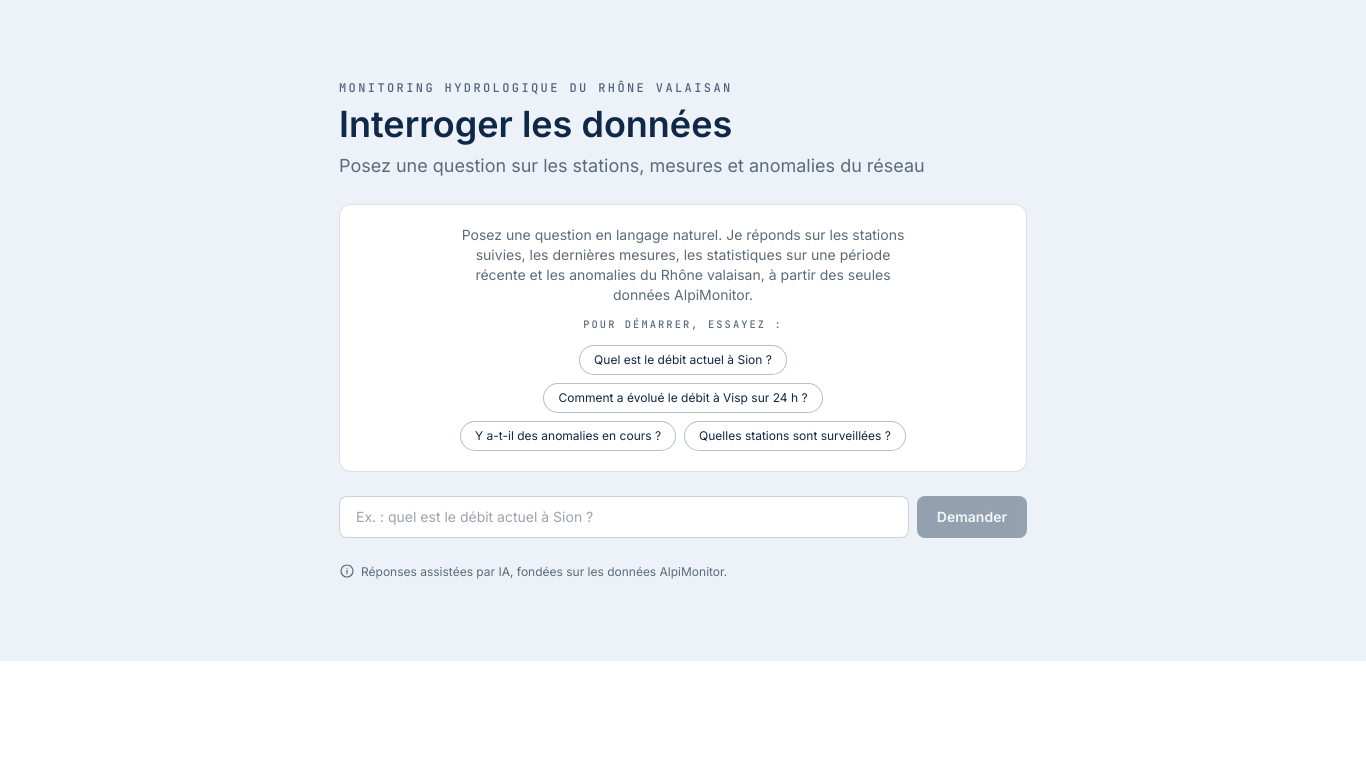
Test: OChatPanel › renders the question and answer bubbles after a successful ask
Step 1. Type "Quel est le débit à Sion ?" into the field with class "o-chat-panel__input" → (624, 517), box [339,496,909,538]
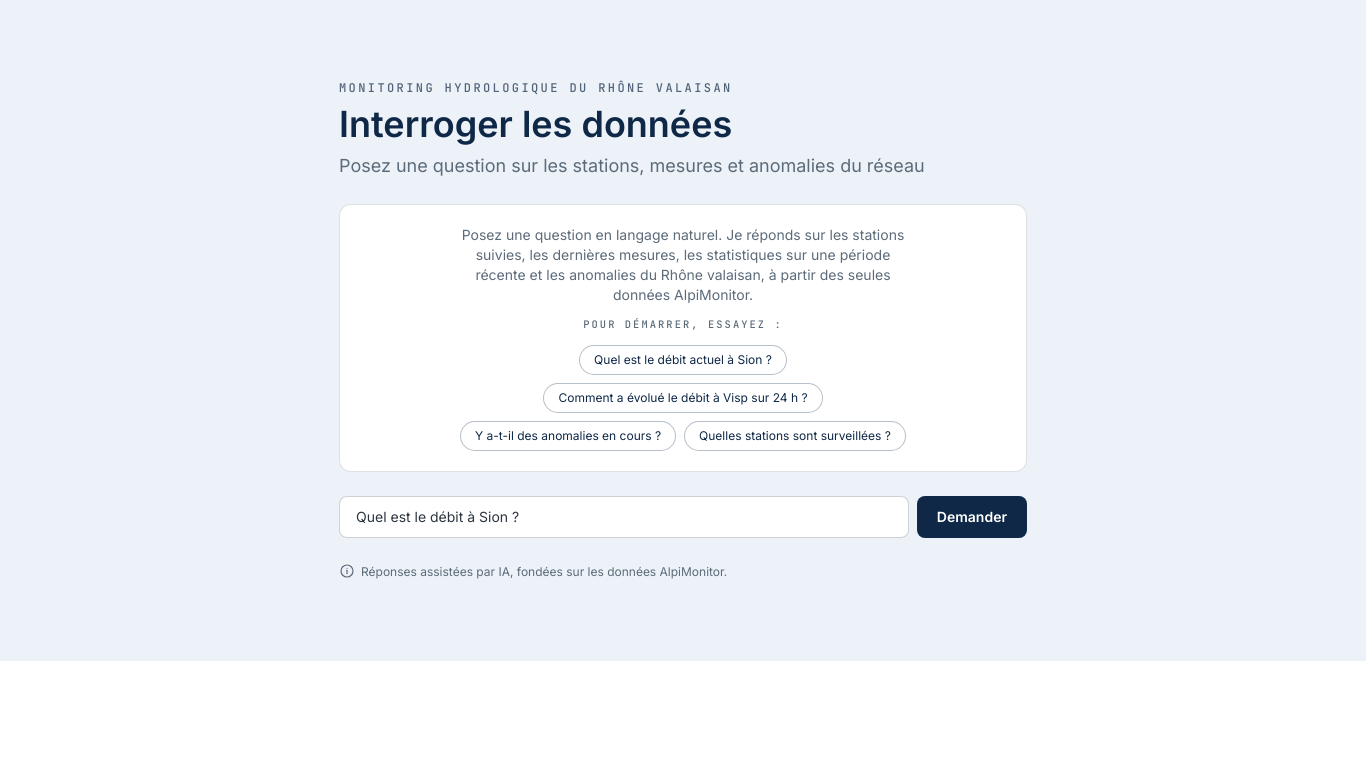
Step 2. Submit the form with class "o-chat-panel__form", box [339,496,1027,538]
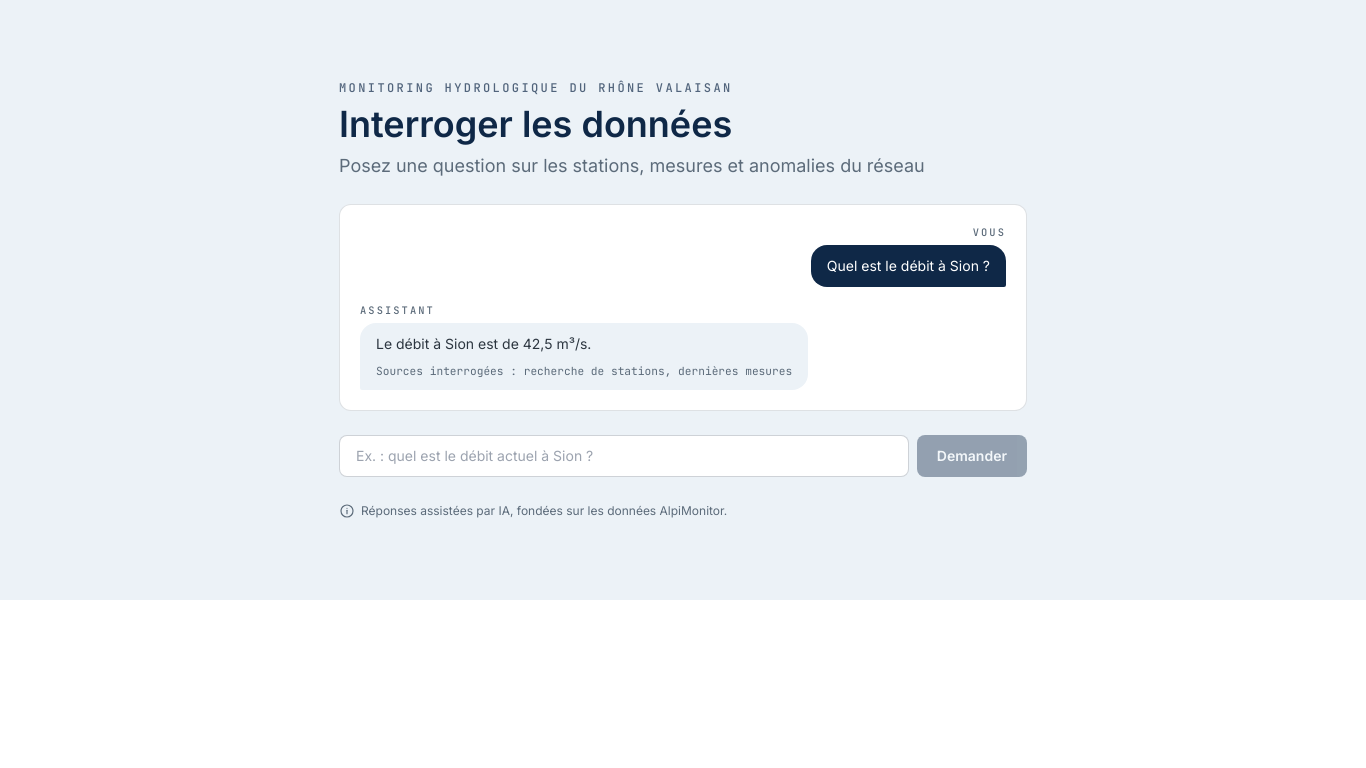
Expected: the text with class "o-chat-panel__bubble--user" reads "Quel est le débit à Sion ?", [827,257,990,274]
Expected: the element with class "o-chat-panel__bubble--assistant" shows "Le débit à Sion est de 42,5 m³/s.", [376,335,591,352]
Expected: the field with class "o-chat-panel__input" is empty, [339,435,909,477]
